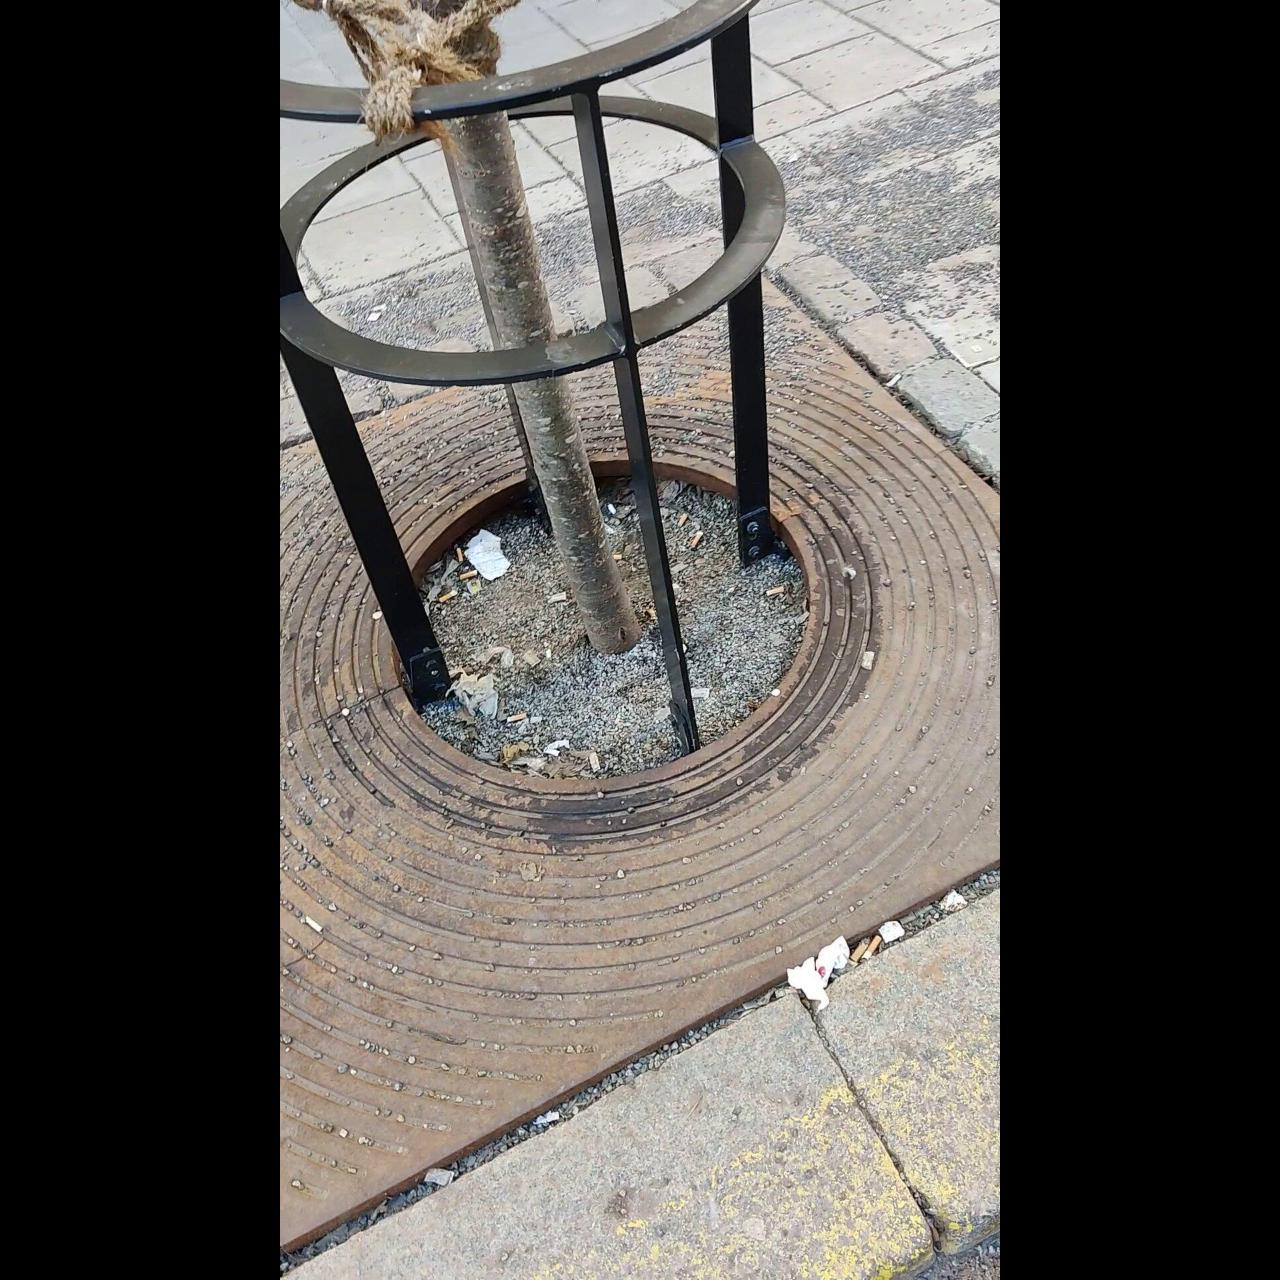cigarettes_butts: (869, 935, 890, 960), (851, 941, 870, 965), (505, 712, 529, 724), (688, 531, 700, 551), (440, 590, 456, 604), (678, 511, 692, 525), (461, 568, 477, 580), (767, 586, 783, 598), (886, 375, 898, 387), (456, 546, 464, 559), (610, 557, 622, 561)
others: (425, 1167, 454, 1185), (305, 917, 324, 933), (546, 588, 566, 604), (862, 648, 873, 672), (588, 753, 602, 770)
